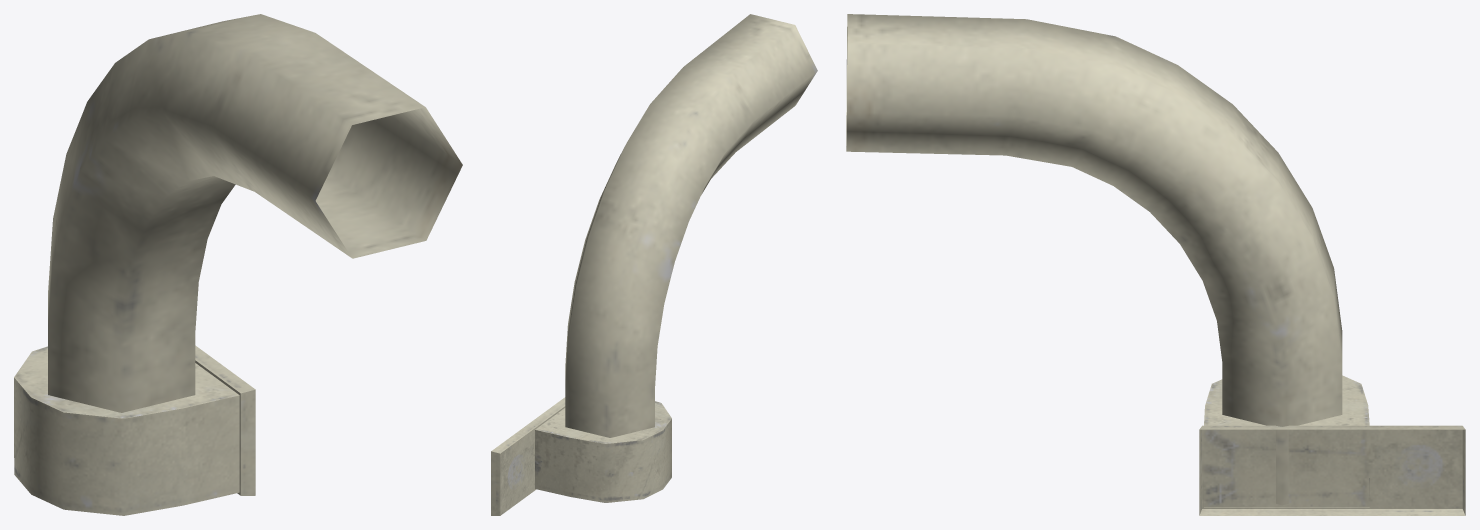
File: SM_Wall_Electrical_Wire_Casing_01a.fbx
3 views of the same model, side by side, from view 1: azimuth 30°, elevation 25°; view 2: azimuth 150°, elevation 25°; view 3: azimuth 270°, elevation 25° (orthographic). The views are drawn at different scales.
Visible parts, largest first — view 1: SM_Wall_Electrical_Wire_Casing_01a_LOD0; view 2: SM_Wall_Electrical_Wire_Casing_01a_LOD0; view 3: SM_Wall_Electrical_Wire_Casing_01a_LOD0.
Part boxes in pixels (x1=…): SM_Wall_Electrical_Wire_Casing_01a_LOD0: x1=14, y1=14, x2=462, y2=515; SM_Wall_Electrical_Wire_Casing_01a_LOD0: x1=491, y1=14, x2=817, y2=515; SM_Wall_Electrical_Wire_Casing_01a_LOD0: x1=846, y1=14, x2=1465, y2=515.
Bounding box in the file's own units: 2.68 × 10.25 × 8.3.
Materials: 1 (1 with a texture image).
